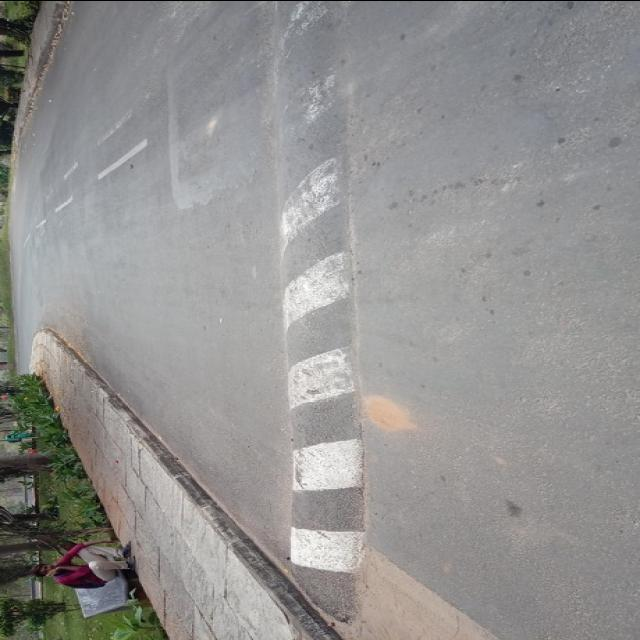speedbreaker: (255, 0, 376, 574)
